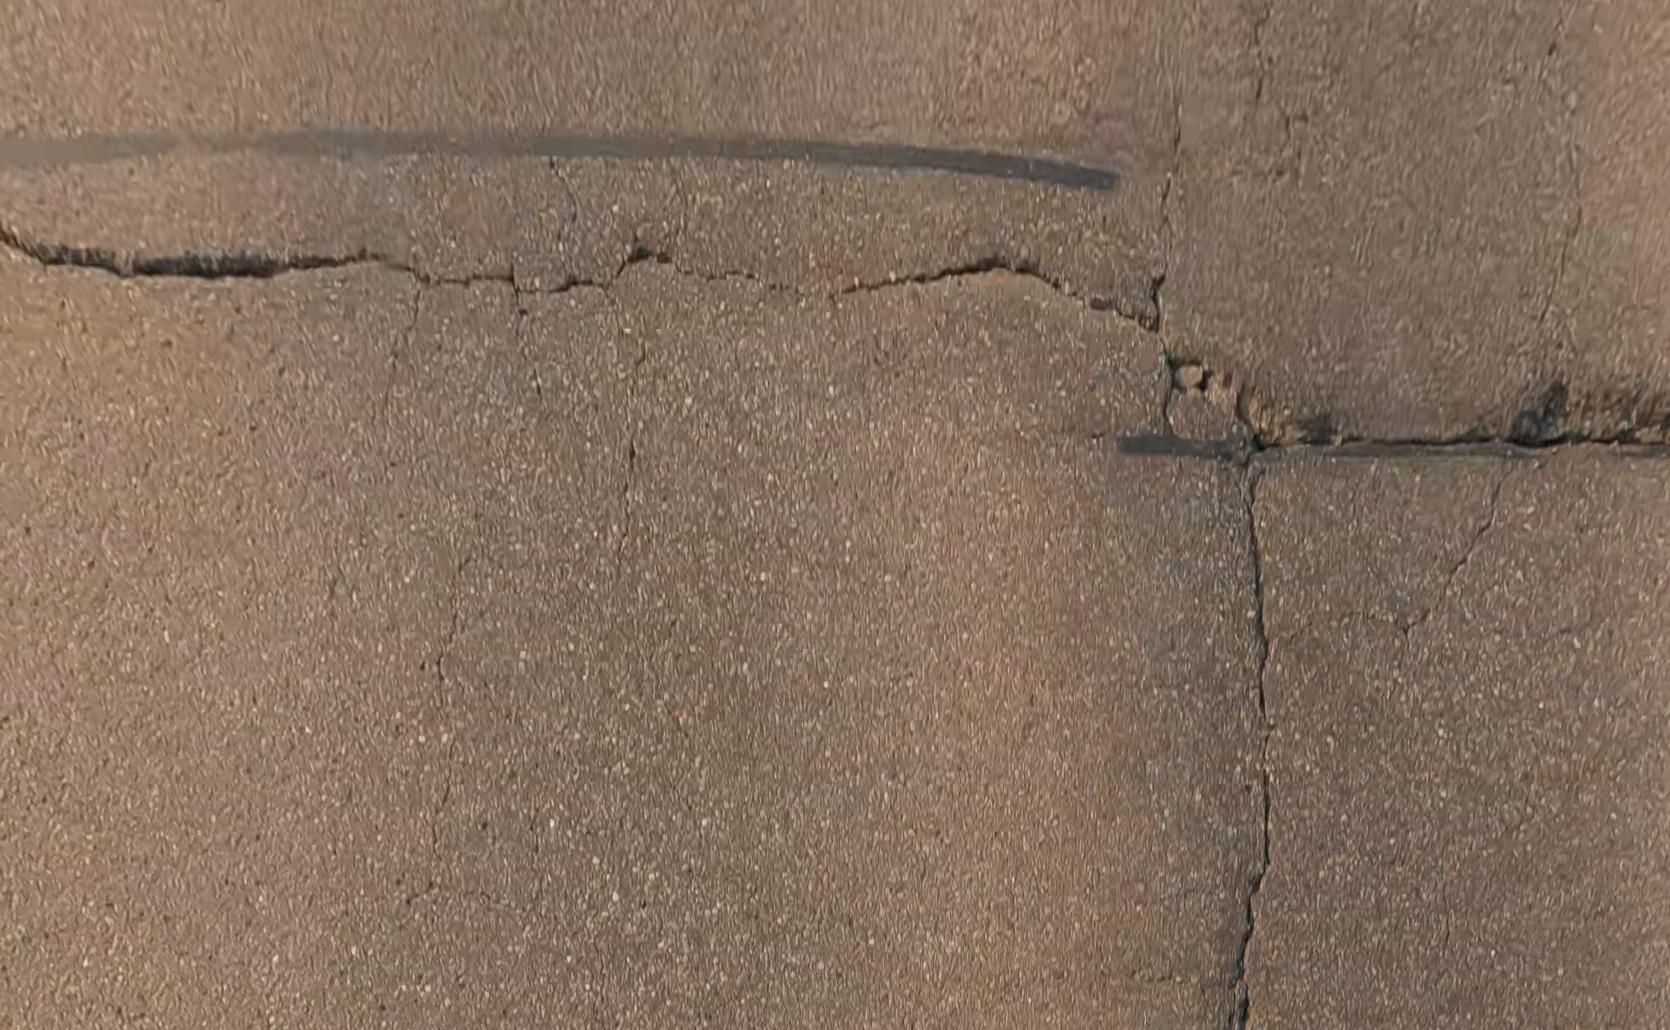pothole: (1516, 377, 1668, 462), (1232, 381, 1336, 456)
